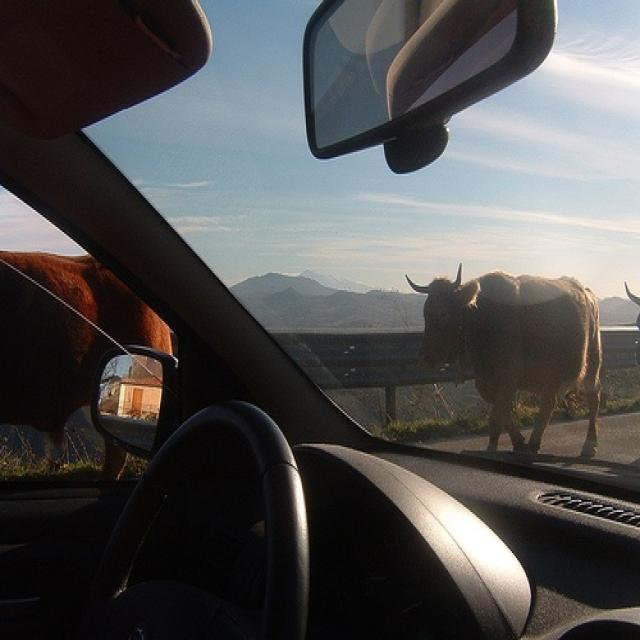cow: (0, 249, 172, 483), (402, 263, 603, 459)
